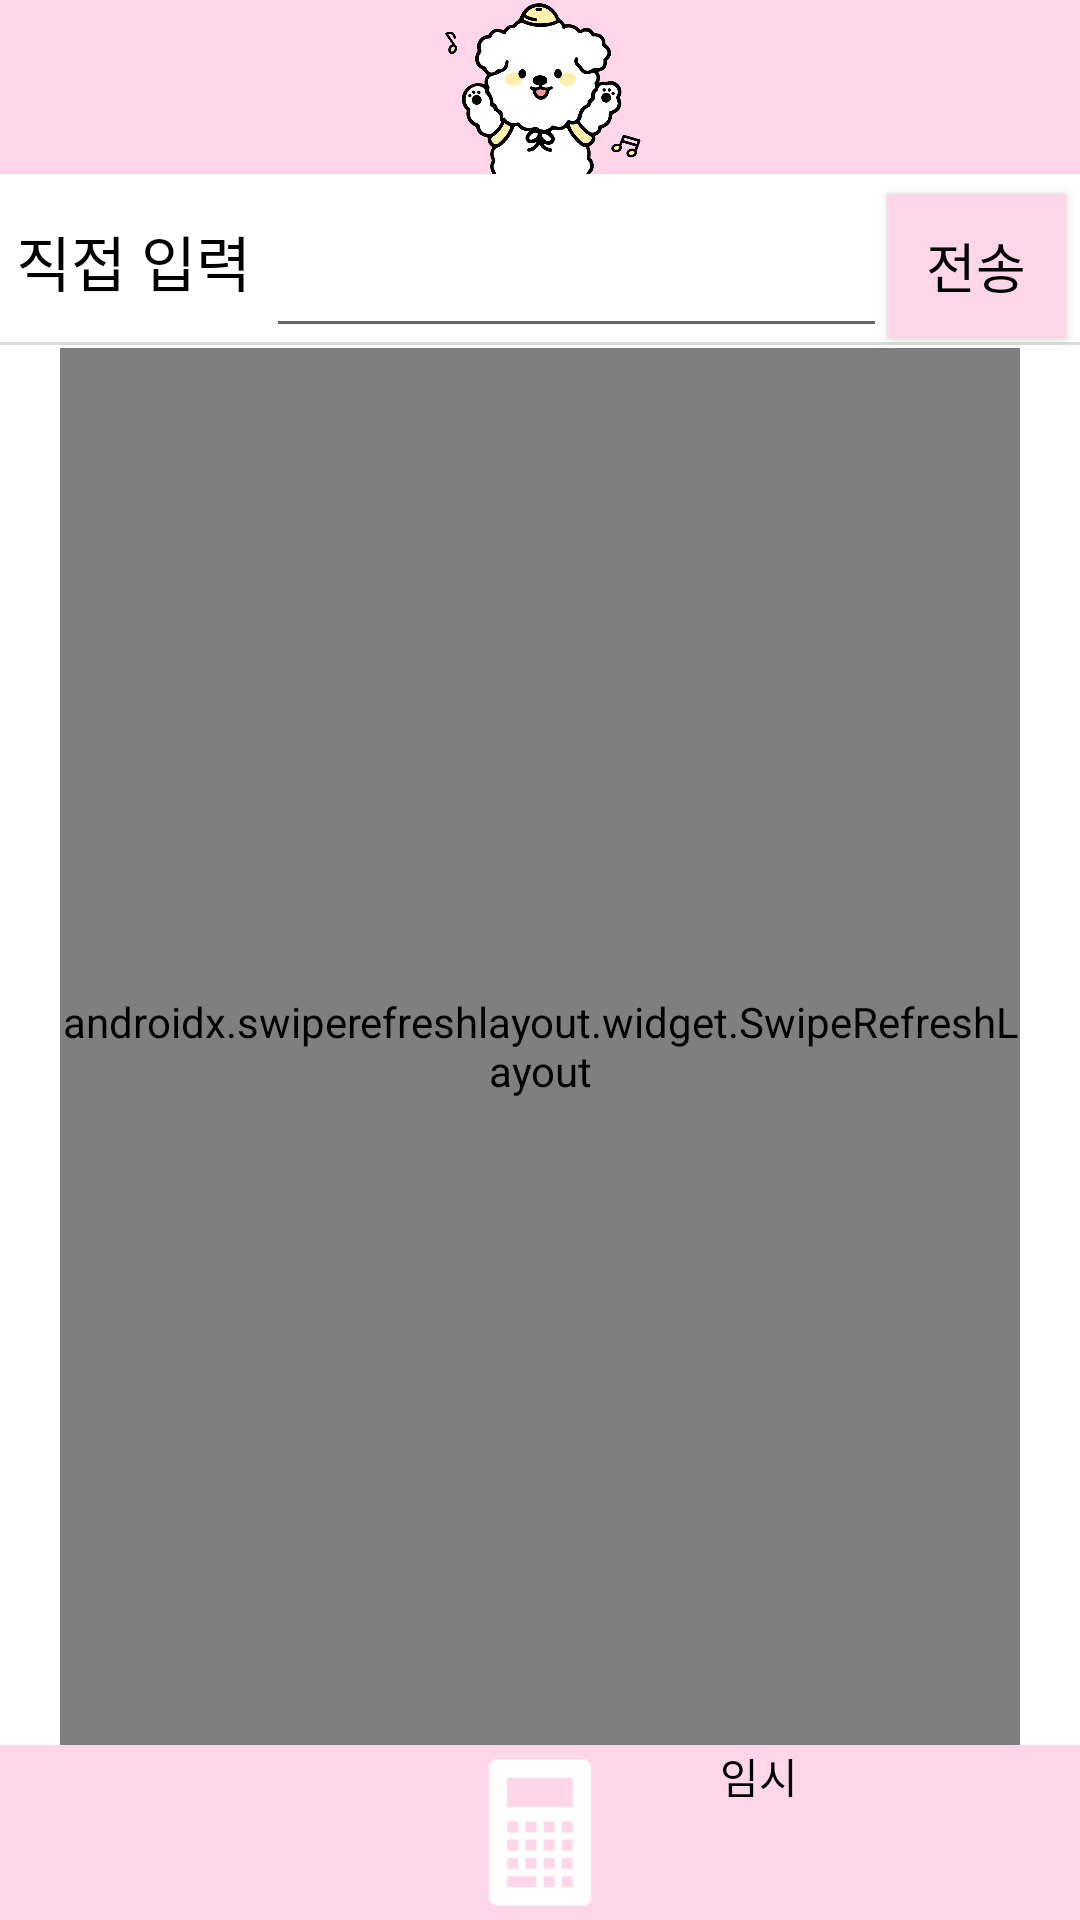

Screen size 1080×1920. Icon name, then its box in pixels as (x1, y1, x2, y2):
calculator: (489, 1760, 591, 1905)
